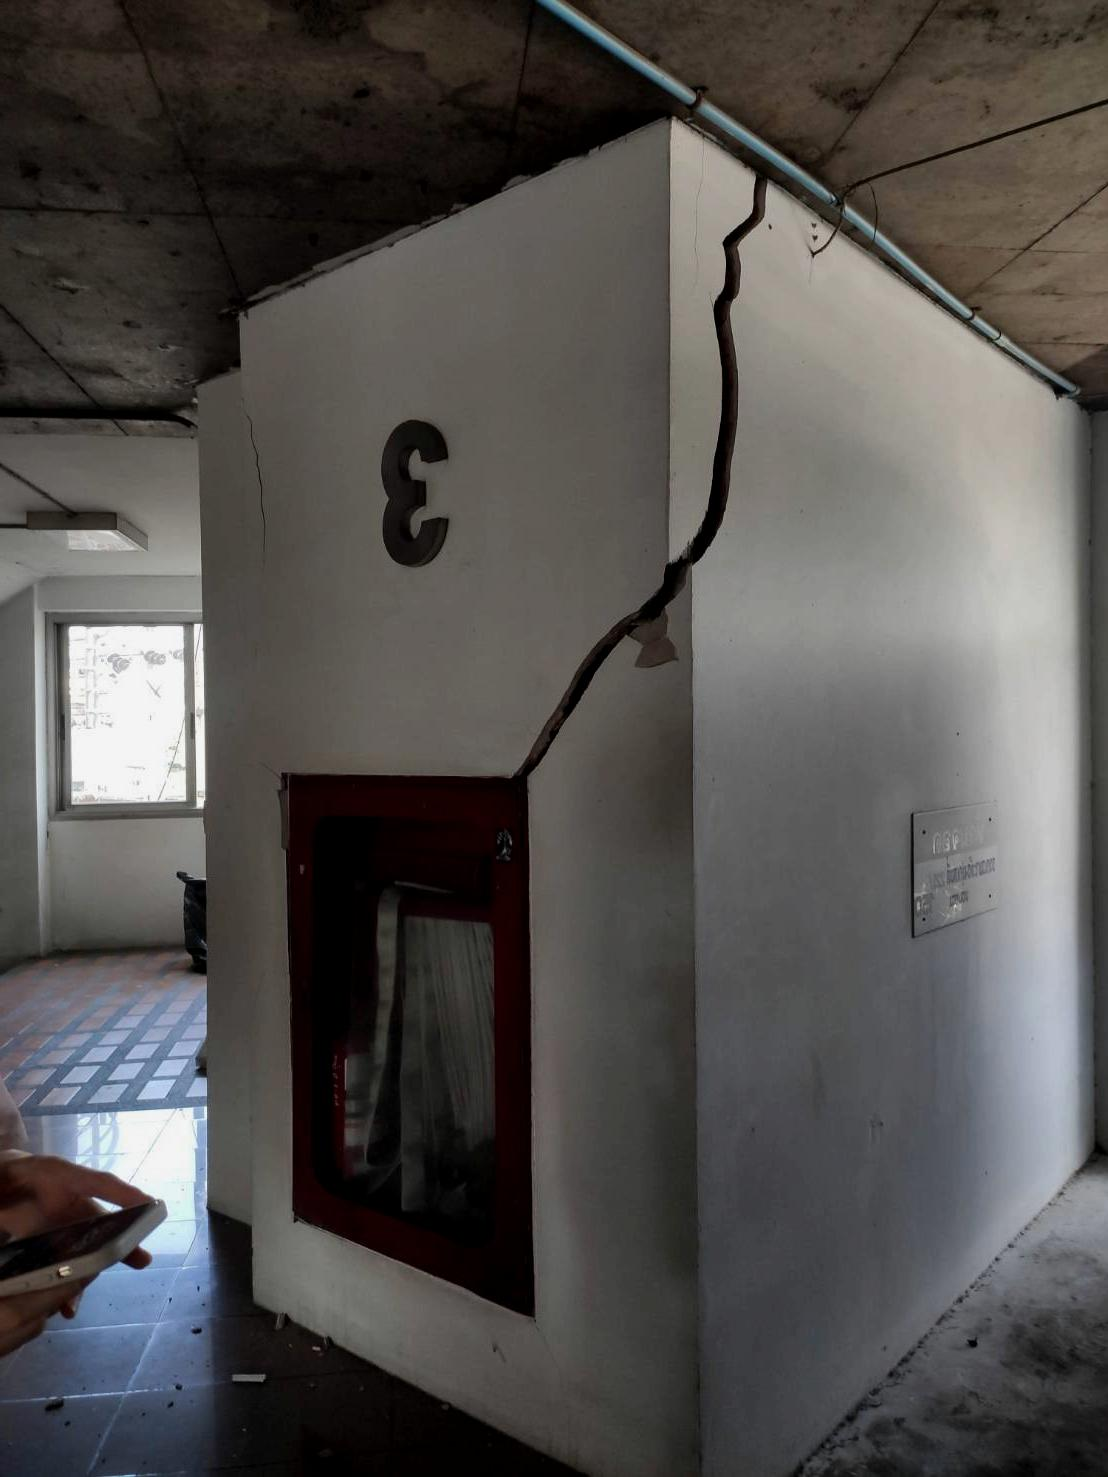High: (462, 151, 871, 812)
